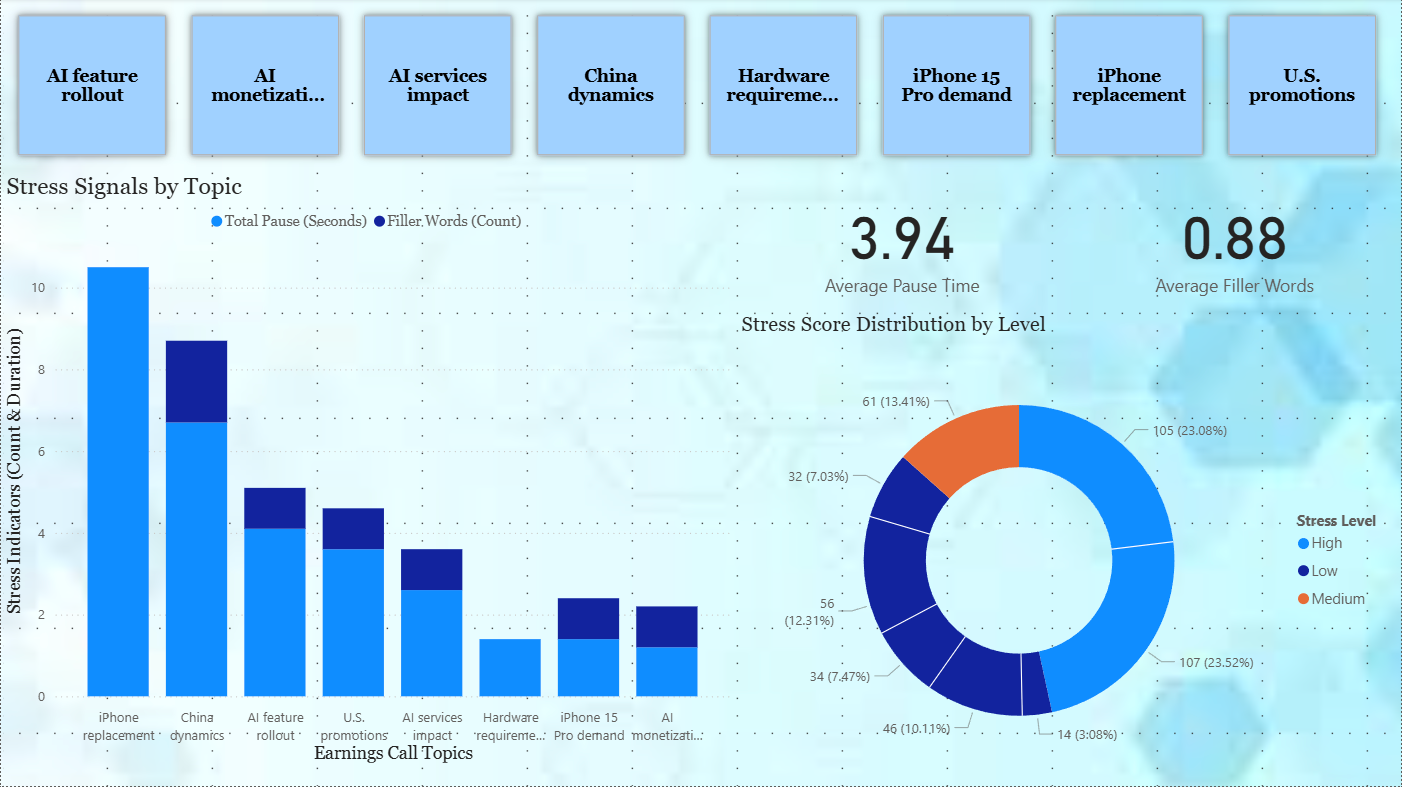

The page's visual inventory and layout, read from the dashboard file:
{"tool":"powerbi","page":{"name":"Project 2","canvas":[1280,720],"ordinal":0},"visuals":[{"type":"advancedSlicerVisual","fields":{"Values":["public earnings_call_analysis.question_topic"]},"box":[0,0,1280,160],"z":0},{"type":"donutChart","title":"Stress Score Distribution by Level","fields":{"Category":["public earnings_call_analysis.stress_level"],"Y":["Sum(public earnings_call_analysis.hesitation_score)"],"Series":["public earnings_call_analysis.S.No."]},"box":[672,288,608,432],"z":2000},{"type":"lineStackedColumnComboChart","title":"Stress Signals by Topic","fields":{"Category":["public earnings_call_analysis.question_topic"],"Y":["public earnings_call_analysis.Total Pause (Seconds)","public earnings_call_analysis.Filler Words (Count)"]},"box":[0,160,672,544],"z":3000},{"type":"card","fields":{"Values":["public earnings_call_analysis.Avg_filler_words_per_answer"]},"box":[976,160,304,128],"z":5001},{"type":"card","fields":{"Values":["public earnings_call_analysis.Avg_Pause_Time"]},"box":[672,160,304,128],"z":5002}]}

Visuals, with their boxes in screenshot pixels (x1, y1, x2, y2), scaled from the page's 1280x720 canvas onto the 1402x787 screenshot:
advancedSlicerVisual - public earnings_call_analysis.question_topic: 0/0/1401/175
"Stress Score Distribution by Level" donutChart: 736/315/1401/786
"Stress Signals by Topic" lineStackedColumnComboChart: 0/175/736/770
card - public earnings_call_analysis.Avg_filler_words_per_answer: 1069/175/1401/315
card - public earnings_call_analysis.Avg_Pause_Time: 736/175/1069/315
